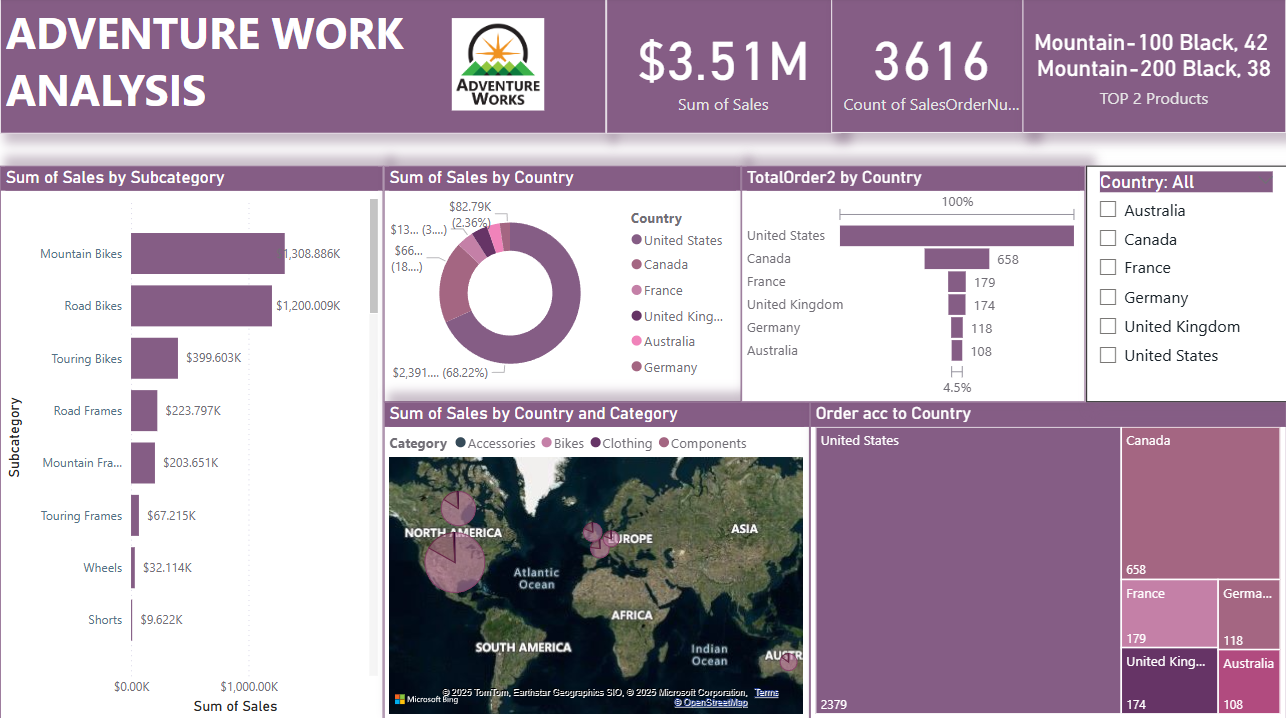

This screenshot's page, from the dashboard's own definition file:
{"tool":"powerbi","page":{"name":"SalesAnalysis","canvas":[1280,720],"ordinal":1},"visuals":[{"type":"textbox","box":[0,0,603.4,135.9],"z":0},{"type":"barChart","fields":{"Y":["Sum(Sales.Sales)"],"Category":["Products.Subcategory"]},"box":[0,168.5,381.9,551.8],"z":1000},{"type":"donutChart","fields":{"Category":["Region.Country"],"Y":["Sum(Sales.Sales)"]},"box":[381.9,168.5,356.1,235.1],"z":2000},{"type":"map","fields":{"Category":["Region.Country"],"Size":["Sum(Sales.Sales)"],"Series":["Products.Category"]},"box":[381.9,403.7,424,316.7],"z":3000},{"type":"card","fields":{"Values":["Sum(Sales.Sales)"]},"box":[603.4,0,233.8,135.9],"z":4000},{"type":"card","fields":{"Values":["Count(Sales.SalesOrderNumber)"]},"box":[827.2,0,200.3,135.6],"z":5000},{"type":"treemap","title":"Order acc to Country","fields":{"Values":["Sales.TotalOrder2"],"Group":["Region.Country"]},"box":[805.9,403.7,474.3,316.7],"z":6000},{"type":"funnel","fields":{"Category":["Region.Country"],"Y":["Sales.TotalOrder2"]},"box":[738,168.5,342.5,235.1],"z":7000},{"type":"card","fields":{"Values":["Sales.TOP 2 Products"]},"box":[1017.6,0,262.5,135.6],"z":8000},{"type":"image","box":[396.9,16.3,197.1,101.9],"z":9000},{"type":"slicer","fields":{"Values":["Region.Country"]},"box":[1080.5,168.5,199.8,235.1],"z":10000}]}

Visuals, with their boxes in screenshot pixels (x1, y1, x2, y2), scaled from the page's 1280x720 canvas onto the 1286x718 screenshot:
textbox: Rect(0, 0, 606, 136)
barChart - Sum(Sales.Sales) x Products.Subcategory: Rect(0, 168, 384, 717)
donutChart - Region.Country x Sum(Sales.Sales): Rect(384, 168, 741, 402)
map - Region.Country x Sum(Sales.Sales): Rect(384, 403, 810, 717)
card - Sum(Sales.Sales): Rect(606, 0, 841, 136)
card - Count(Sales.SalesOrderNumber): Rect(831, 0, 1032, 135)
"Order acc to Country" treemap: Rect(810, 403, 1285, 717)
funnel - Region.Country x Sales.TotalOrder2: Rect(741, 168, 1086, 402)
card - Sales.TOP 2 Products: Rect(1022, 0, 1285, 135)
image: Rect(399, 16, 597, 118)
slicer - Region.Country: Rect(1086, 168, 1285, 402)
